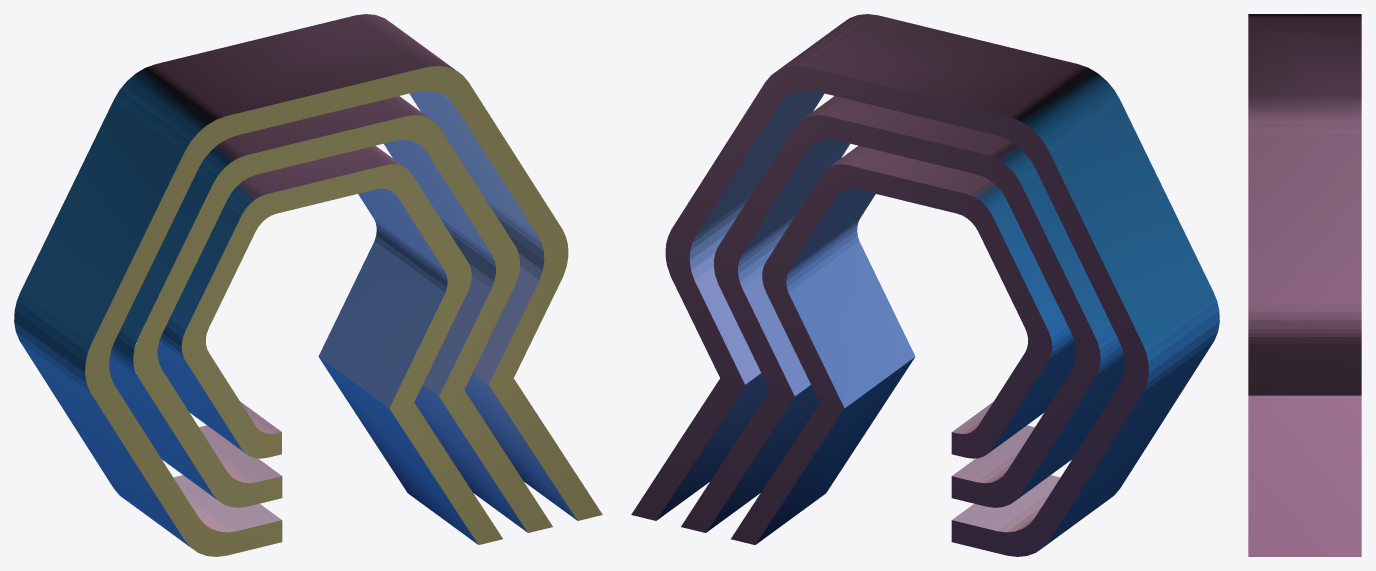
Rendered from qirex.glb.
The picture shows the model from 3 angles, left to right: view 1: azimuth 30°, elevation 25°; view 2: azimuth 150°, elevation 25°; view 3: azimuth 270°, elevation 25°; orthographic projection. The views are drawn at different scales.
Visible parts, largest first — view 1: Mesh_0; view 2: Mesh_0; view 3: Mesh_0.
Boxes of the visible parts, x1,y1,x2,y2 form: Mesh_0: (14,14,602,556); Mesh_0: (631,14,1219,556); Mesh_0: (1248,14,1361,556).
Size of the model in its own units: 59.36 by 53.75 by 14.08.
